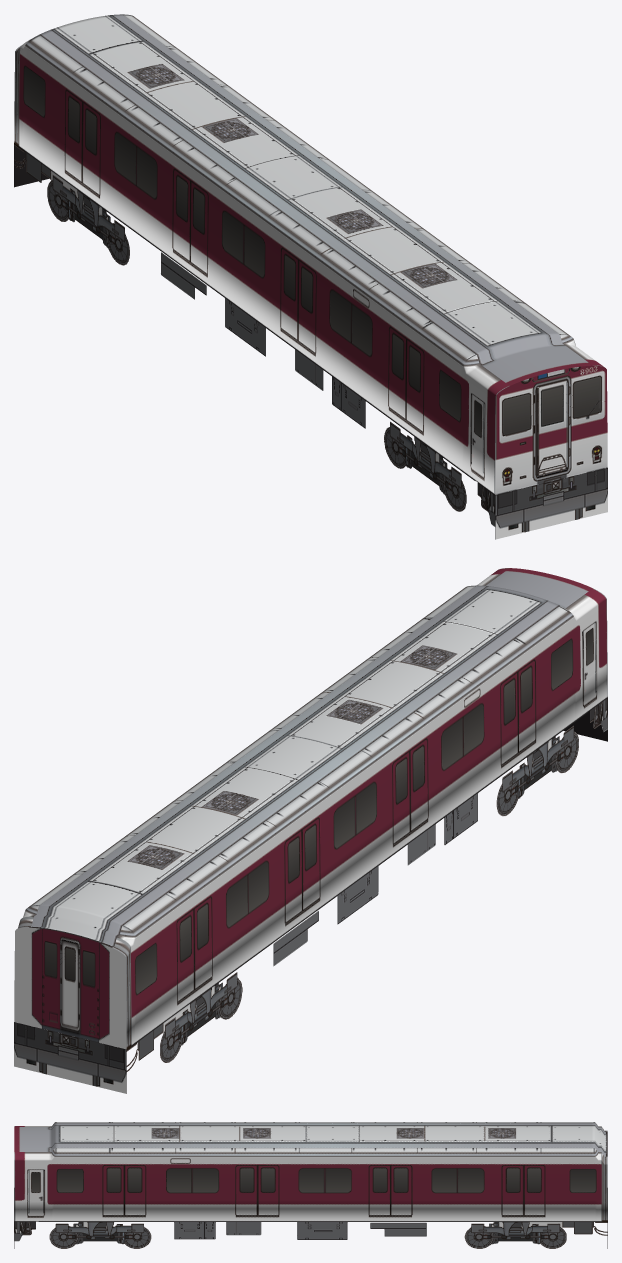
File: car1.glb
3 views of the same model, one above another, from view 1: azimuth 30°, elevation 25°; view 2: azimuth 150°, elevation 25°; view 3: azimuth 270°, elevation 25° (orthographic). The views are drawn at different scales.
Visible parts, largest first — view 1: kintetsu-8800-car1; view 2: kintetsu-8800-car1; view 3: kintetsu-8800-car1.
Part boxes in pixels (bbox=[...]): kintetsu-8800-car1: bbox=[14, 14, 607, 539]; kintetsu-8800-car1: bbox=[14, 568, 607, 1093]; kintetsu-8800-car1: bbox=[14, 1122, 607, 1248].
Size of the model in its own units: 2.8 by 3.82 by 20.77.
Materials: 8 (7 with a texture image).
